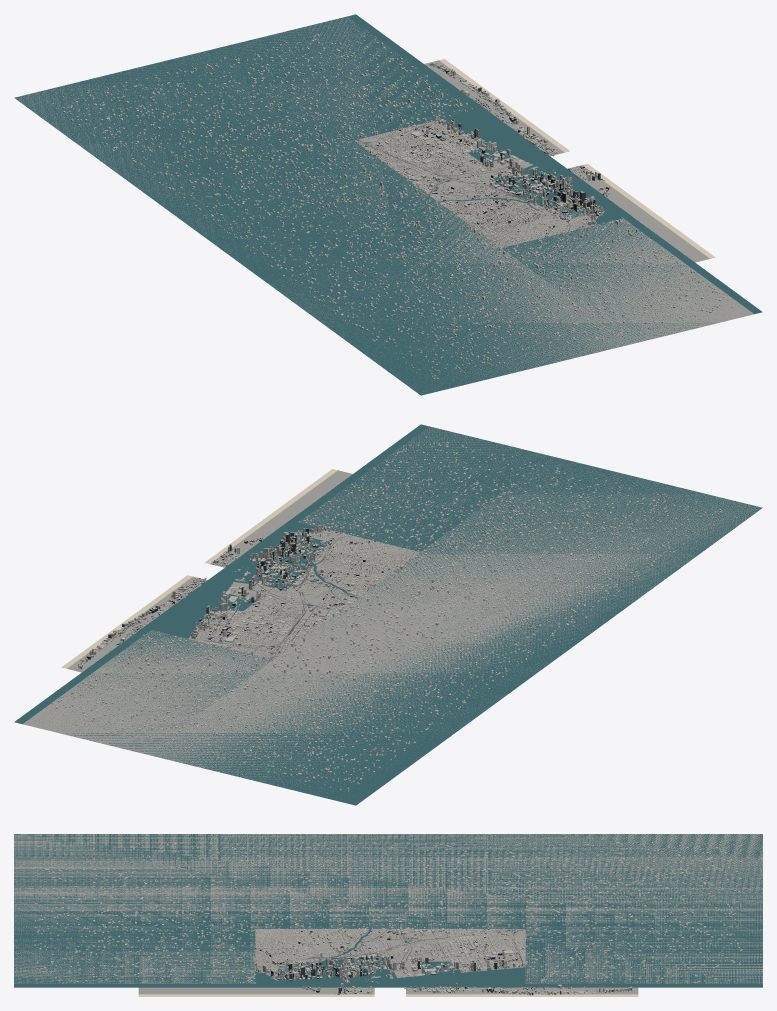
Rendered from skyline.glb.
3 views of the same model, one above another, from view 1: azimuth 30°, elevation 25°; view 2: azimuth 150°, elevation 25°; view 3: azimuth 270°, elevation 25° (orthographic). The views are drawn at different scales.
Visible parts, largest first — view 1: sky_bay, sky_far.001, sky_farcity, sky_far, skyland_far, skyland_far_beach-6000, skyland_far_beach1150, sky_west1, sky_brk2; view 2: sky_bay, sky_far.001, sky_farcity, sky_far, skyland_far, skyland_far_beach-6000, skyland_far_beach1150, sky_west1; view 3: sky_bay, sky_far.001, sky_farcity, sky_far, skyland_far, skyland_far_beach-6000, skyland_far_beach1150, sky_west1, sky_brk1, sky_dt, sky_brk2, skyland_edge1 (+1 smaller).
Part boxes in pixels (left/top/right/bottom): sky_bay: left=14, top=14, right=762, bottom=395; sky_far.001: left=15, top=17, right=753, bottom=390; sky_farcity: left=46, top=30, right=733, bottom=379; sky_far: left=361, top=62, right=609, bottom=248; skyland_far: left=354, top=119, right=604, bottom=247; skyland_far_beach-6000: left=585, top=176, right=715, bottom=262; skyland_far_beach1150: left=424, top=59, right=553, bottom=142; sky_west1: left=489, top=165, right=553, bottom=198; sky_brk2: left=549, top=191, right=603, bottom=218; sky_bay: left=14, top=424, right=762, bottom=805; sky_far.001: left=23, top=427, right=761, bottom=796; sky_farcity: left=46, top=436, right=721, bottom=791; sky_far: left=75, top=525, right=420, bottom=670; skyland_far: left=188, top=529, right=419, bottom=659; skyland_far_beach-6000: left=222, top=469, right=352, bottom=554; skyland_far_beach1150: left=61, top=587, right=188, bottom=672; sky_west1: left=257, top=556, right=307, bottom=590; sky_bay: left=14, top=834, right=762, bottom=987; sky_far.001: left=14, top=834, right=762, bottom=983; sky_farcity: left=33, top=841, right=742, bottom=983; sky_far: left=255, top=927, right=634, bottom=995; skyland_far: left=255, top=928, right=525, bottom=983; skyland_far_beach-6000: left=138, top=987, right=342, bottom=996; skyland_far_beach1150: left=436, top=987, right=638, bottom=996; sky_west1: left=335, top=955, right=390, bottom=971; sky_brk1: left=306, top=956, right=336, bottom=979; sky_dt: left=335, top=963, right=392, bottom=982; sky_brk2: left=277, top=962, right=308, bottom=980; skyland_edge1: left=390, top=961, right=421, bottom=978.
Size of the model in its own units: 9264 by 274 by 18000.
